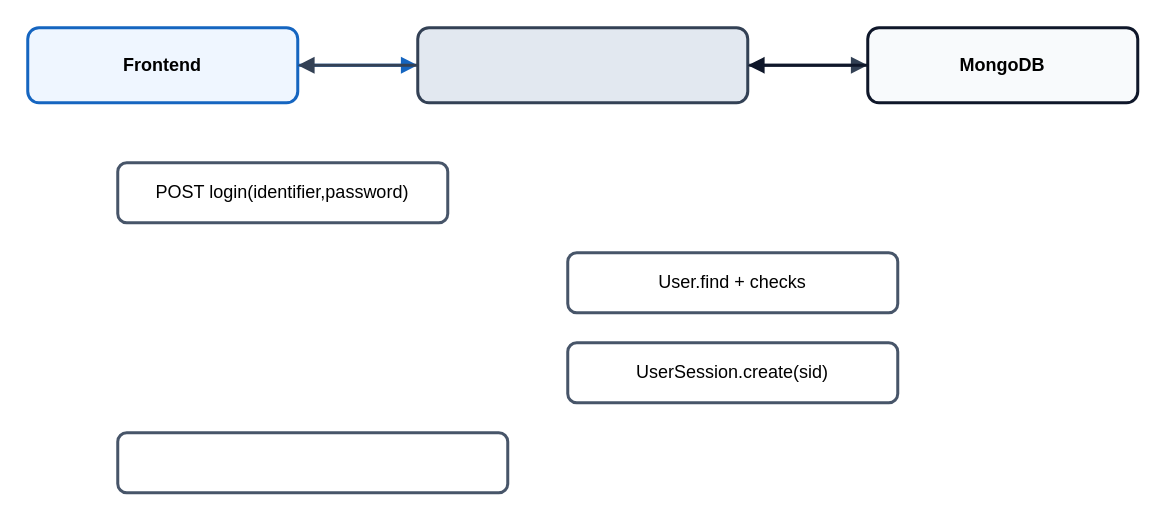
Image size: 1164x519. Some labels were removed from this diagram. Here are the shapes that lost their labels. From the top down, the box of each, then its label:
(416, 26, 748, 104): Backend (/api/auth)
(116, 430, 508, 494): 200 {token, refreshToken, session_id}
